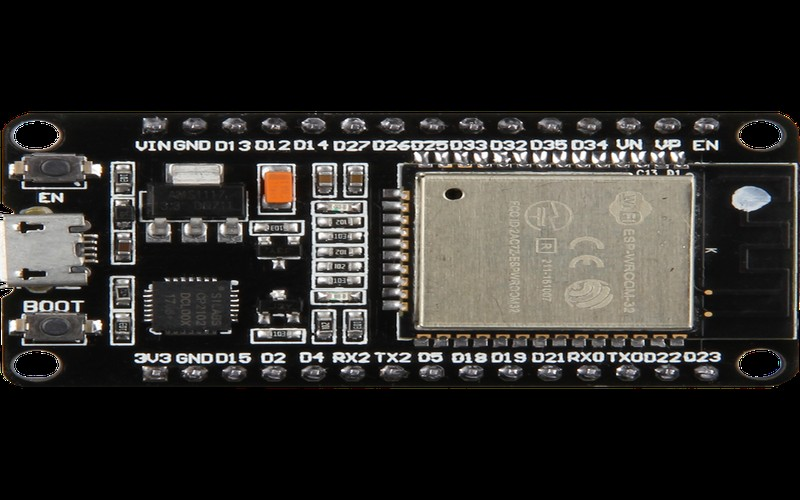IoT Sensor: (0, 90, 800, 405)
